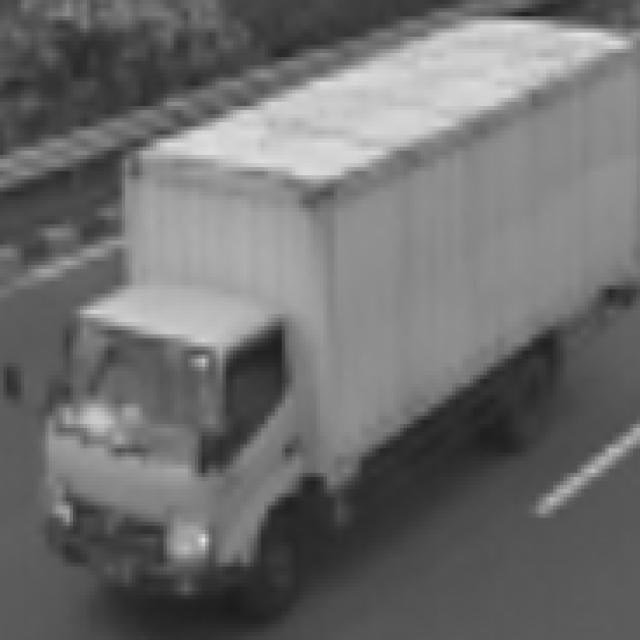truck: (1, 256, 326, 628)
